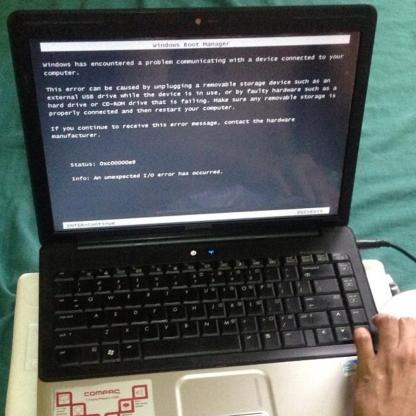board: (1, 9, 416, 416)
